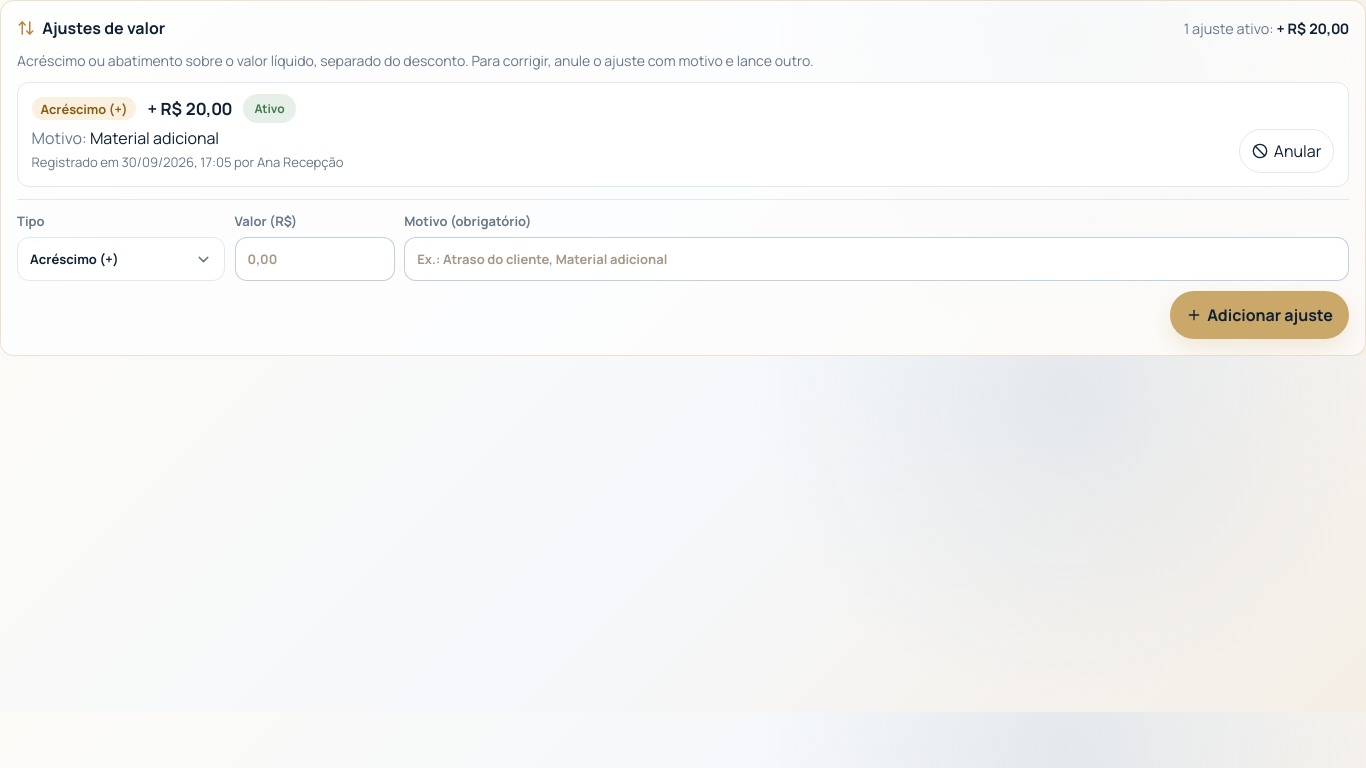
Test case: AppointmentValueAdjustments › inclui um ajuste com chave de idempotência e avisa o pai com o snapshot recalculado
Expected: the list named "Ajustes registrados" is shown, top-left (17, 82), bottom-right (1349, 187)
Click the dropdown named "Tipo". click: (121, 259)
box: top-left (17, 237), bottom-right (225, 281)
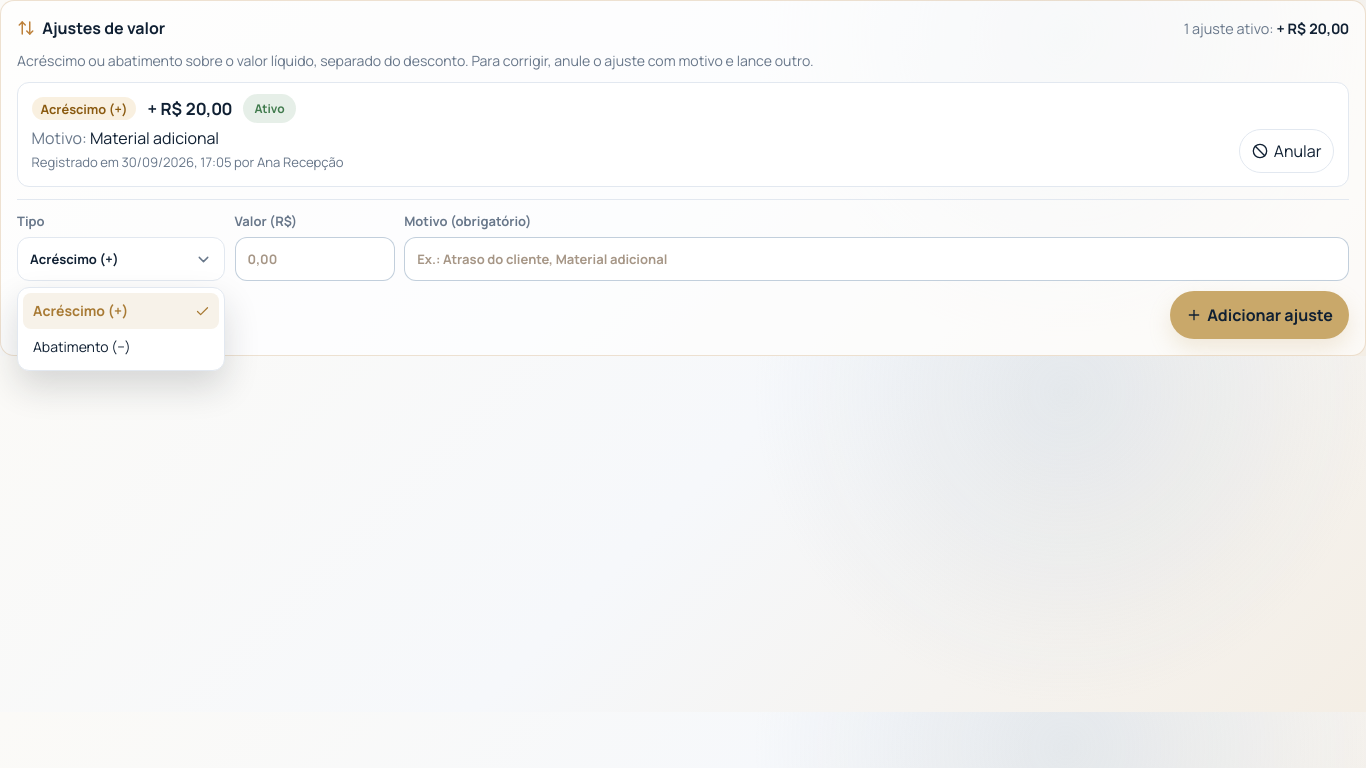
Click the option "Abatimento (−)". click: (82, 347)
box: top-left (33, 337), bottom-right (131, 356)
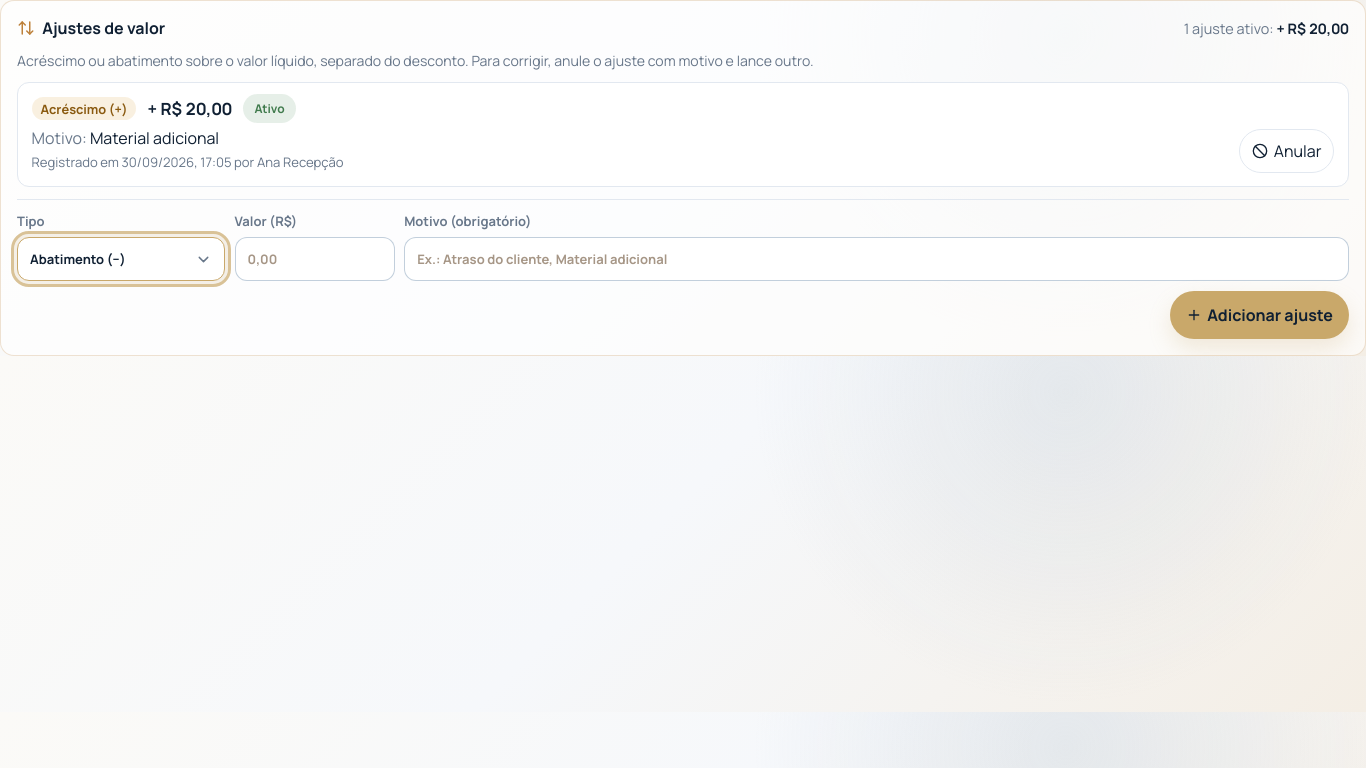
Type "15.5" into the number field labelled "Valor (R$)". click: (315, 259)
box: top-left (235, 237), bottom-right (395, 281)
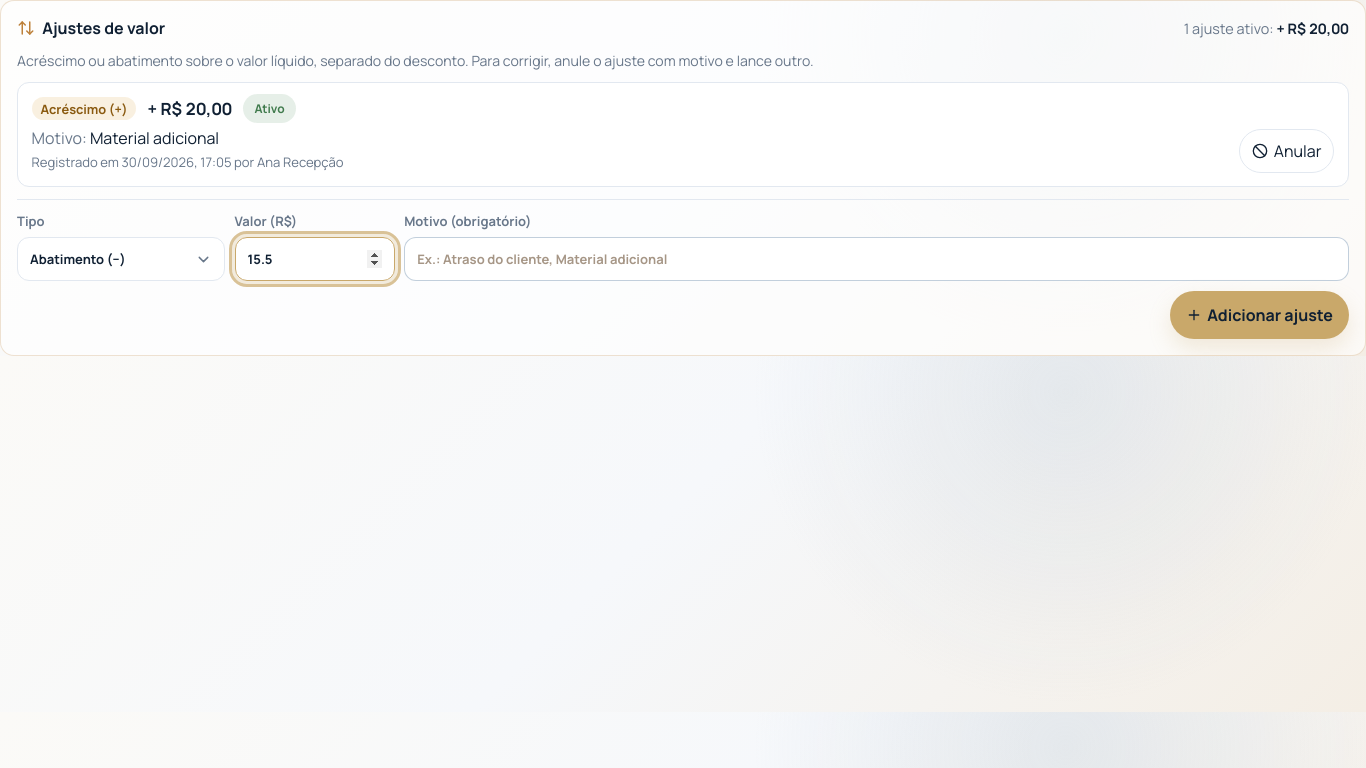
Type "  Atraso do cliente  " into the field labelled "Motivo (obrigatório)". click: (877, 259)
box: top-left (404, 237), bottom-right (1349, 281)
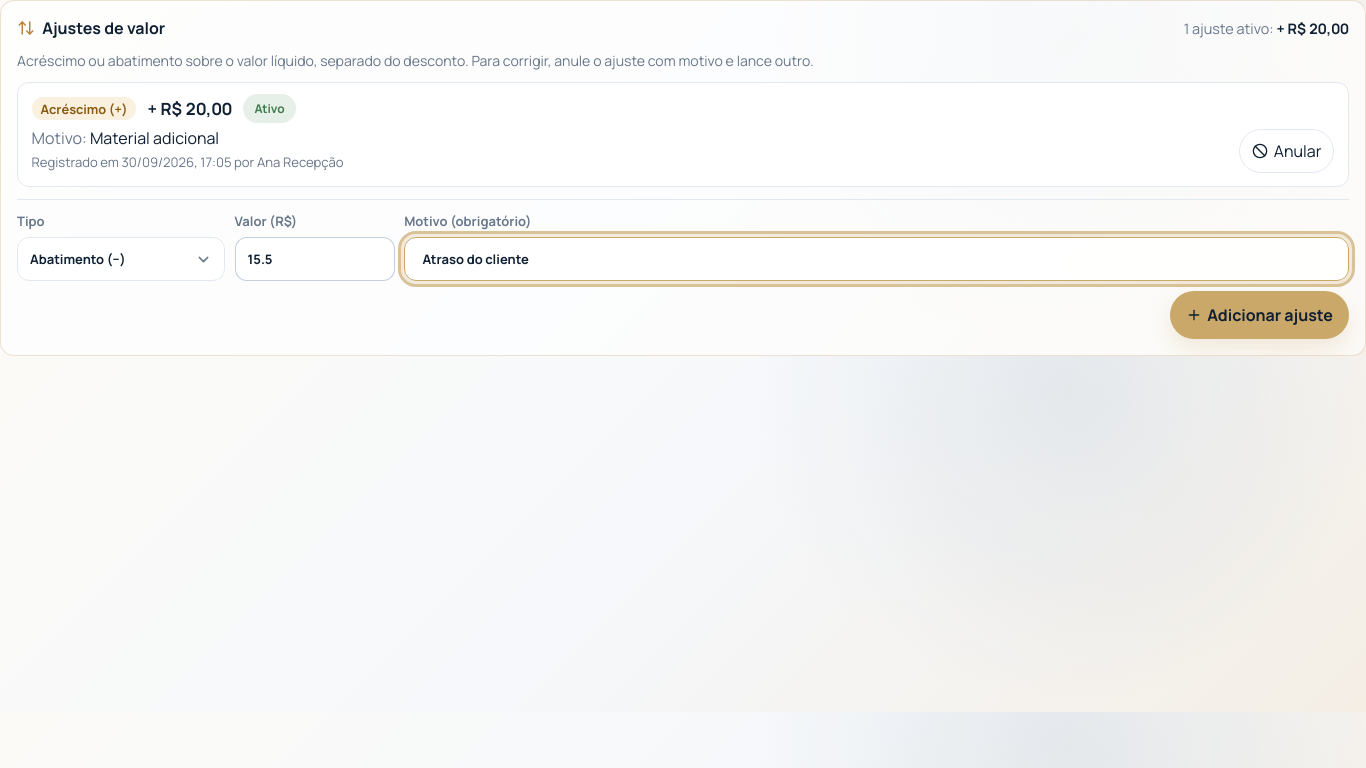
Click the button "Adicionar ajuste". click: (1259, 315)
box: top-left (1170, 291), bottom-right (1349, 339)
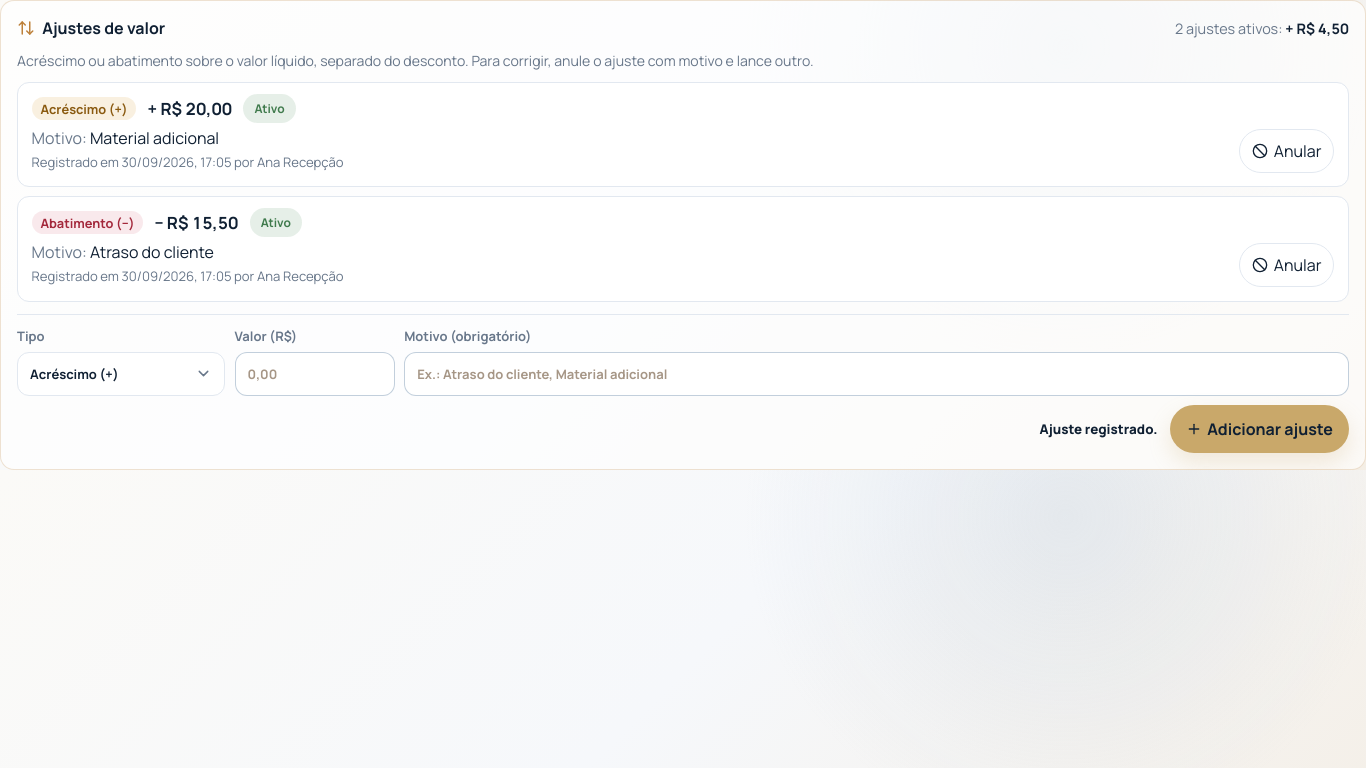
Now the text "Ajuste registrado." is shown, box top-left (1040, 420), bottom-right (1158, 438)
Now the number field labelled "Valor (R$)" is not empty, box top-left (235, 352), bottom-right (395, 396)
Now the number of list items is 2, box top-left (17, 82), bottom-right (1349, 187); top-left (17, 196), bottom-right (1349, 302)
